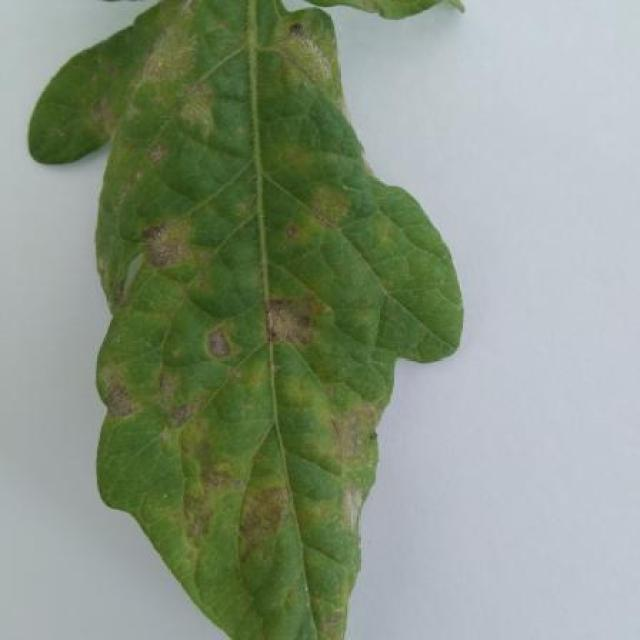Early Blight: (26, 0, 464, 640)
